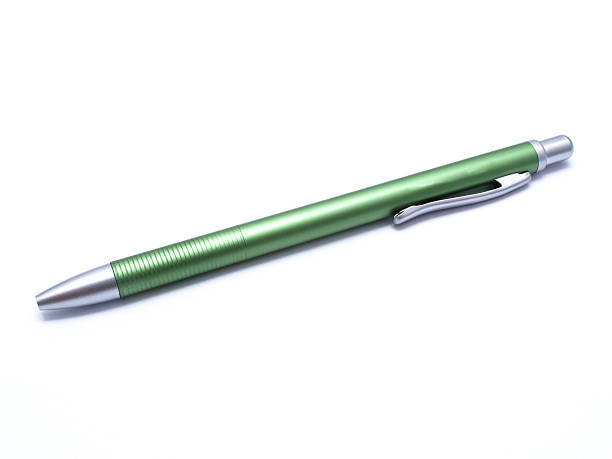pen: (29, 128, 578, 321)
